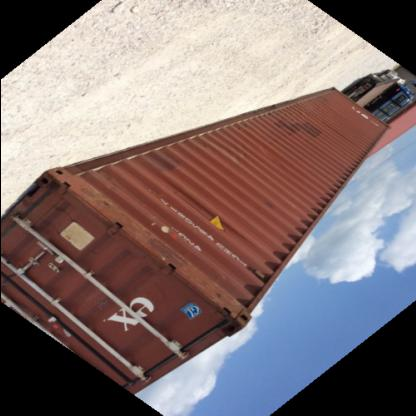Damage: (58, 172, 141, 246), (130, 223, 198, 287), (189, 273, 250, 325), (224, 148, 260, 168)
